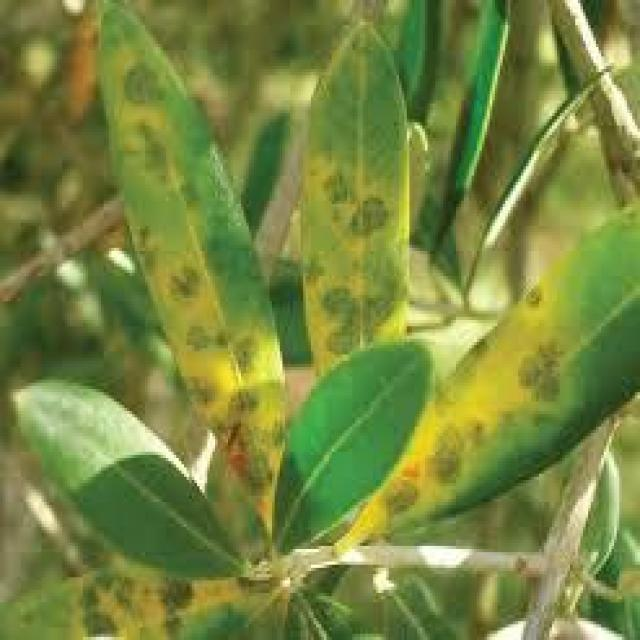OlivePeacockSpot: (327, 204, 638, 554), (98, 3, 285, 502), (300, 25, 410, 388)
